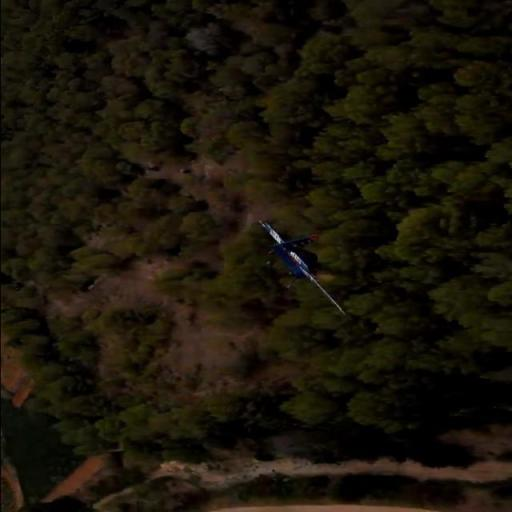uav: (259, 220, 346, 315)
